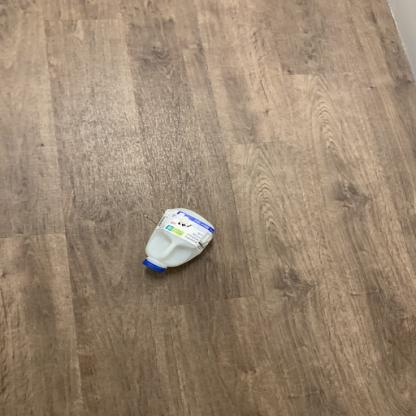trash: (138, 204, 218, 273)
